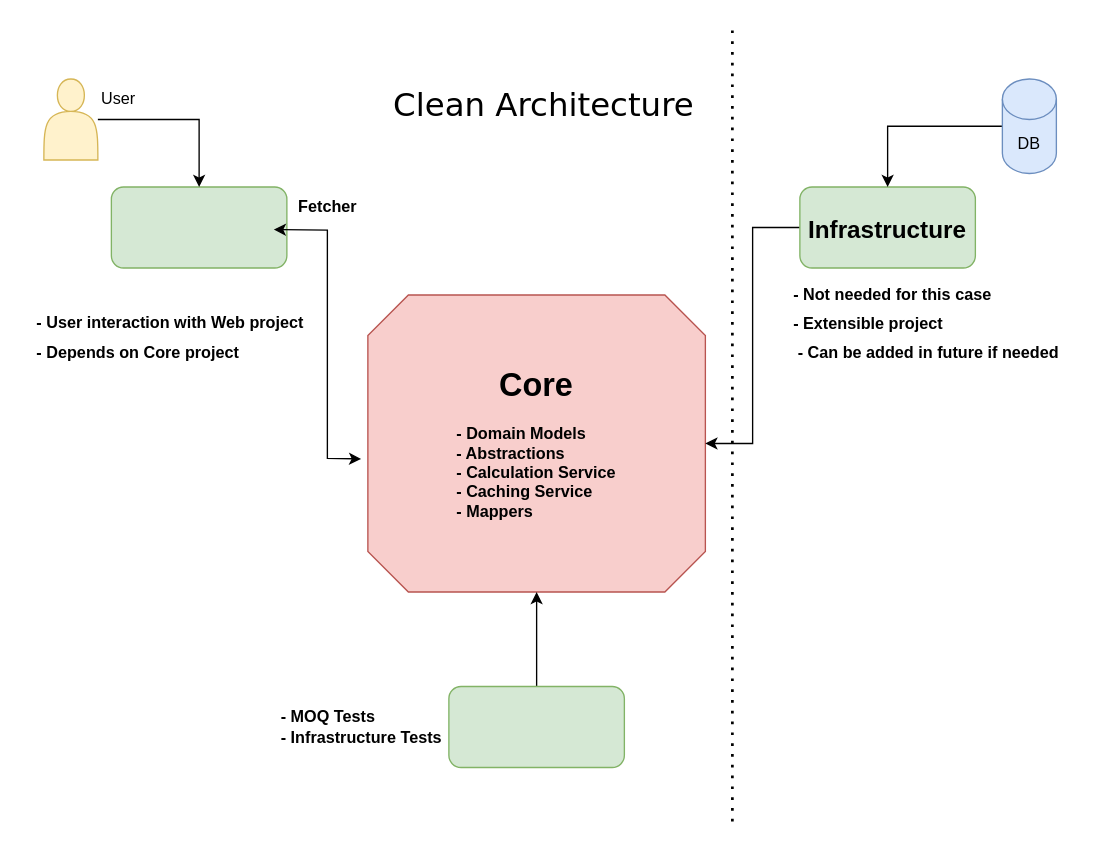
The diagram is 1099 pixels wide and 846 high, and some of its shapes have lost their labels. The shapes that lost their labels are listed below. From the top down, each one's box as (x1, y1, x2, y2) in pixels, then its label:
(110, 186, 287, 268): Web
(448, 685, 624, 767): Test
